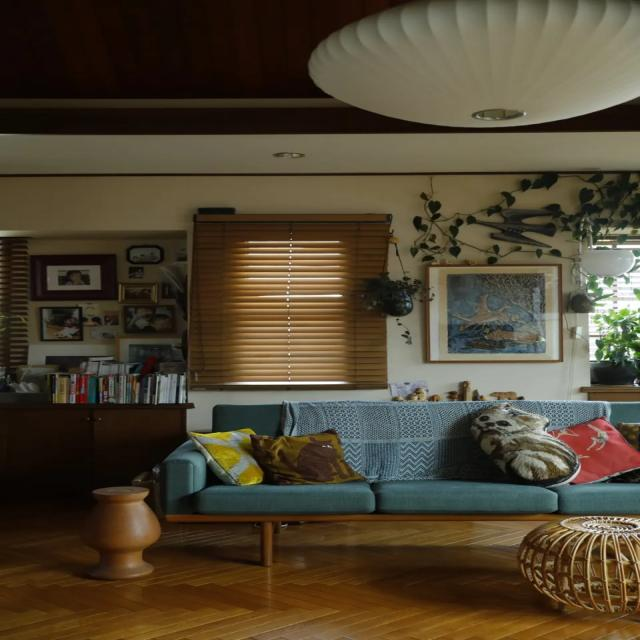vintage sofa: (164, 399, 640, 520)
